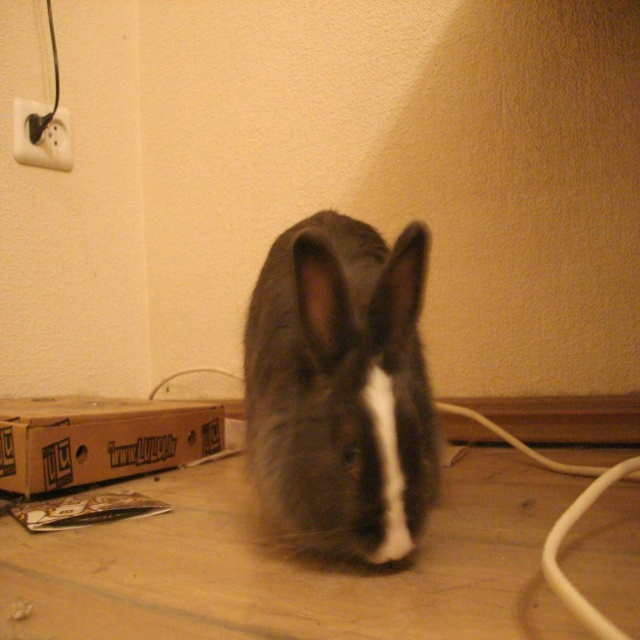Rabbit: (232, 203, 449, 578)
